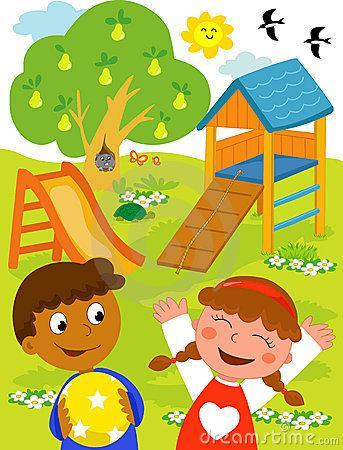bird: (255, 7, 289, 45), (303, 24, 330, 60)
person: (151, 269, 335, 446), (7, 258, 144, 446)
